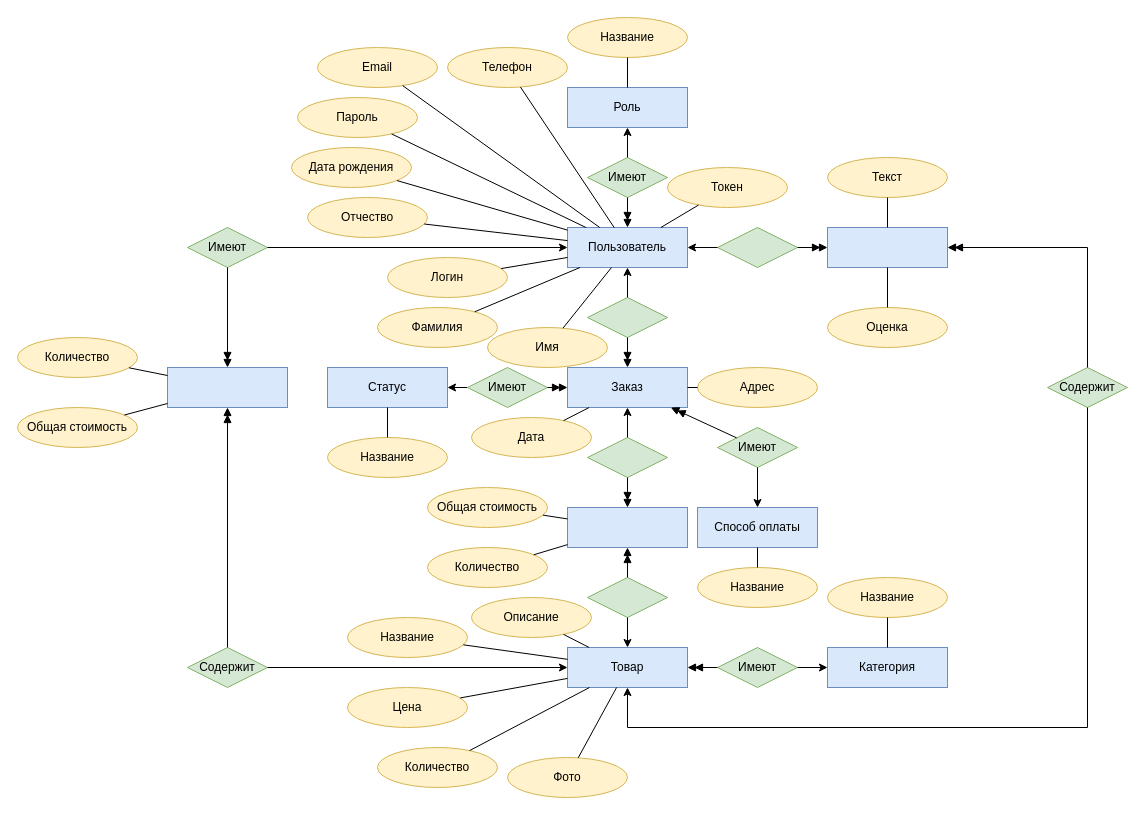
Image size: 1145x815. Some labels were removed from this diagram. Here are the shapes that lost their labels. From the top down, the centre of each, then its label:
At point (757, 247): "Оставляют".
At point (887, 247): "Отзыв".
At point (627, 317): "Делают".
At point (227, 387): "Корзина".
At point (627, 457): "Входит".
At point (627, 527): "Состав заказа".
At point (627, 597): "Имеет".
